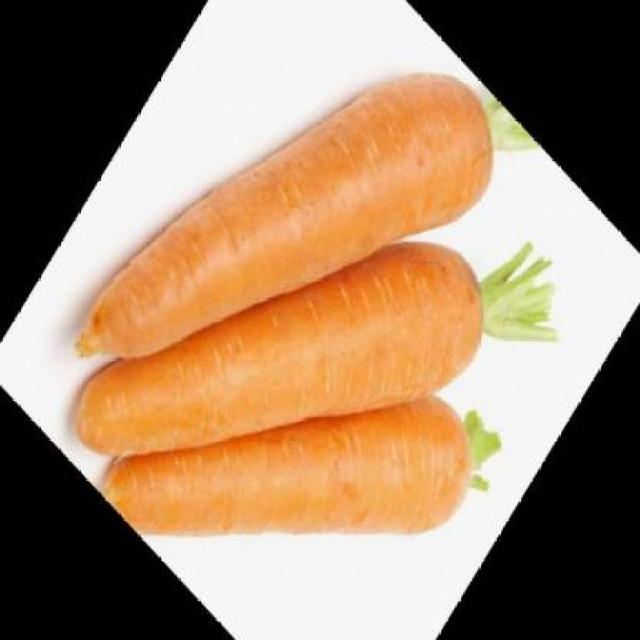carrot: (62, 61, 504, 638), (64, 0, 516, 557), (95, 206, 490, 640)
